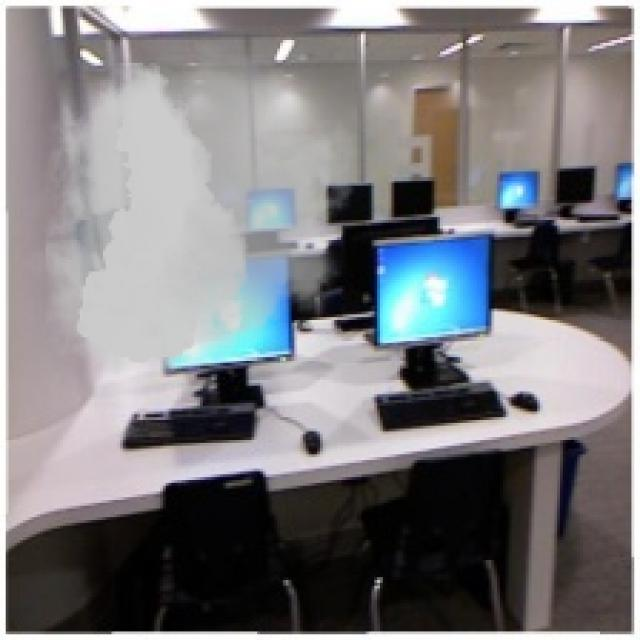smoke: (17, 40, 374, 386)
